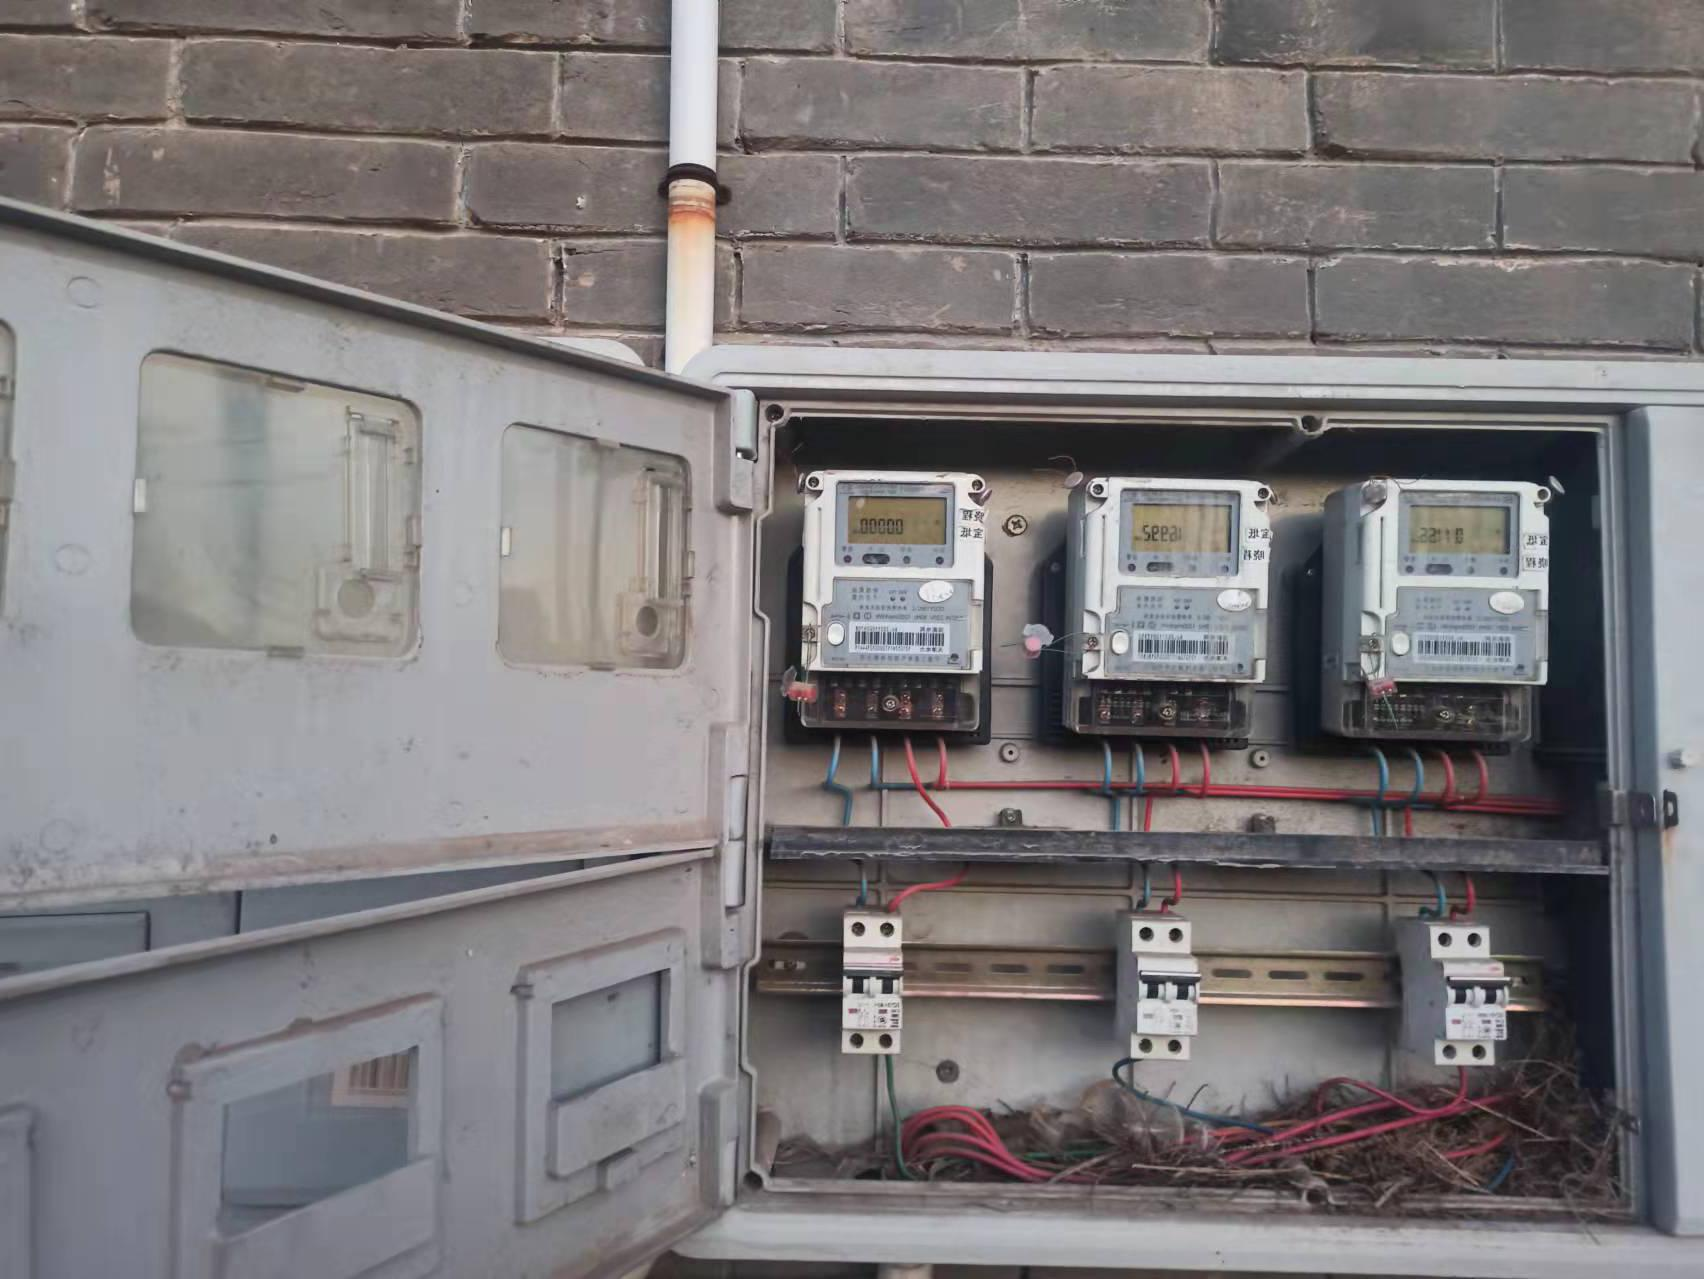digital: (1358, 480, 1544, 685), (1081, 480, 1264, 682), (802, 472, 982, 673)
